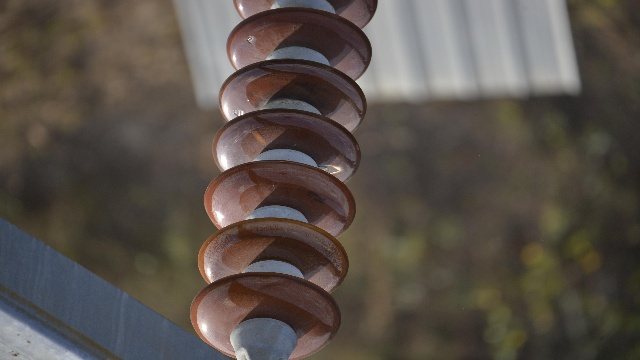insulator_unspecified: (190, 0, 379, 358)
pollution_flashover_local: (318, 162, 342, 174)
